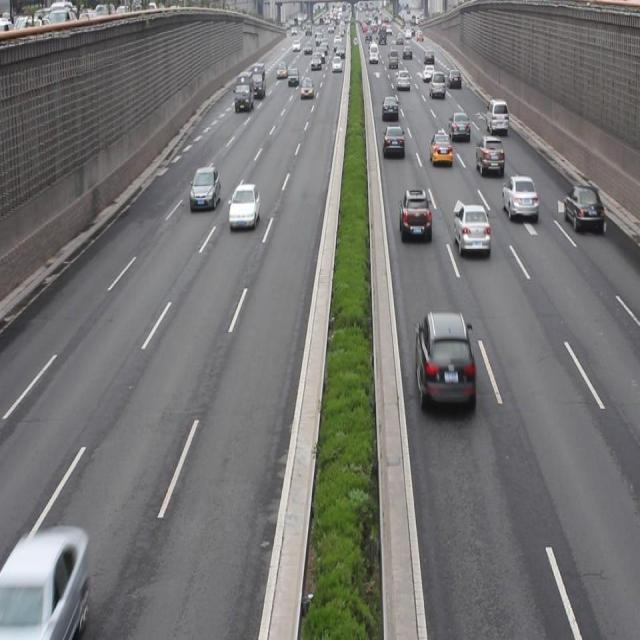car: (563, 184, 603, 234), (452, 203, 489, 252), (398, 187, 431, 238), (501, 176, 537, 220), (228, 181, 259, 229), (190, 166, 220, 210), (474, 135, 504, 177), (429, 130, 452, 168), (382, 124, 404, 158), (447, 110, 470, 140), (380, 94, 399, 121)
truck: (415, 311, 474, 410), (486, 98, 509, 134)
